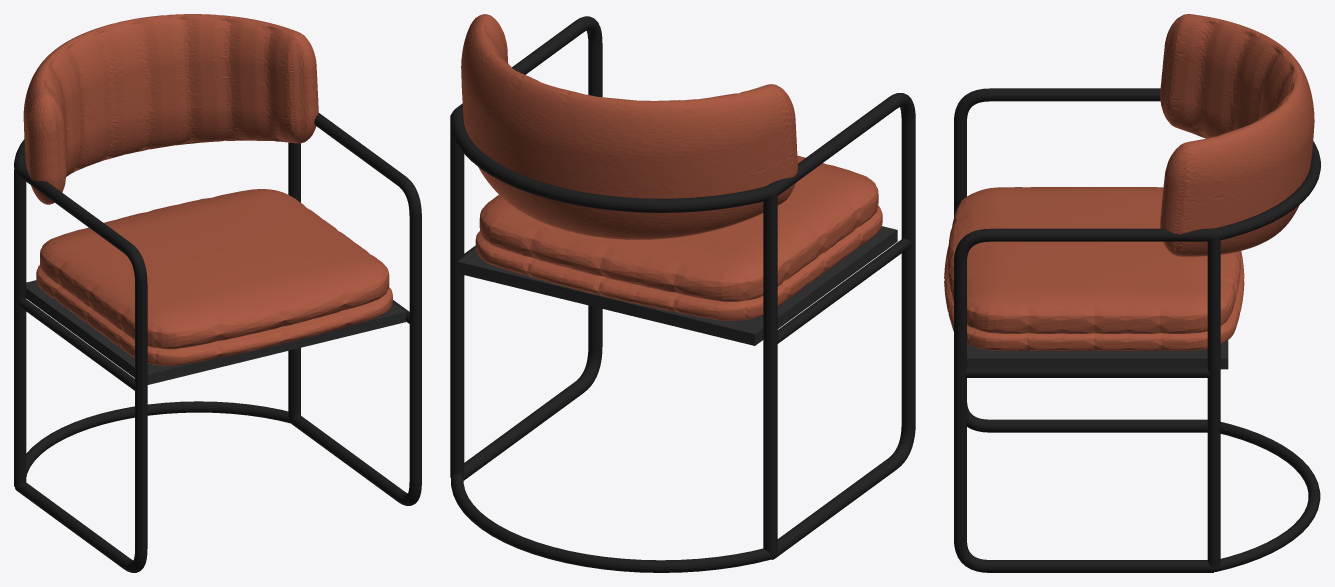
File: tide.glb
3 views of the same model, side by side, from view 1: azimuth 30°, elevation 25°; view 2: azimuth 150°, elevation 25°; view 3: azimuth 270°, elevation 25° (orthographic). The views are drawn at different scales.
Visible parts, largest first — view 1: back, seat, frame, seat_lower, seat_base, rear_post-1, floor_back, rear_post1, seat_rail-1; view 2: back, seat, frame, seat_lower, seat_base, rear_post-1, rear_post1, floor_back, seat_rail-1; view 3: seat, back, frame, seat_lower, rear_post1, seat_base, floor_back, seat_rail1.
Part boxes in pixels (left/top/right/bottom): back: left=23, top=14, right=318, bottom=204; seat: left=40, top=189, right=389, bottom=349; frame: left=14, top=113, right=421, bottom=572; seat_lower: left=36, top=265, right=392, bottom=365; seat_base: left=26, top=280, right=405, bottom=384; rear_post-1: left=14, top=169, right=26, bottom=486; floor_back: left=26, top=401, right=289, bottom=476; rear_post1: left=288, top=142, right=300, bottom=419; seat_rail-1: left=17, top=298, right=134, bottom=390; back: left=461, top=14, right=797, bottom=239; seat: left=479, top=155, right=878, bottom=301; frame: left=450, top=16, right=915, bottom=559; seat_lower: left=475, top=206, right=882, bottom=320; seat_base: left=457, top=226, right=897, bottom=345; rear_post-1: left=763, top=193, right=777, bottom=556; rear_post1: left=450, top=115, right=464, bottom=477; floor_back: left=451, top=474, right=773, bottom=572; seat_rail-1: left=777, top=238, right=911, bottom=343; seat: left=947, top=187, right=1240, bottom=333; back: left=1160, top=14, right=1314, bottom=256; frame: left=954, top=88, right=1320, bottom=572; seat_lower: left=944, top=247, right=1244, bottom=350; rear_post1: left=1207, top=237, right=1220, bottom=569; seat_base: left=967, top=340, right=1228, bottom=369; floor_back: left=1214, top=422, right=1320, bottom=571; seat_rail1: left=964, top=367, right=1209, bottom=377.
Size of the model in its own units: 0.58 by 0.7884 by 0.633.
